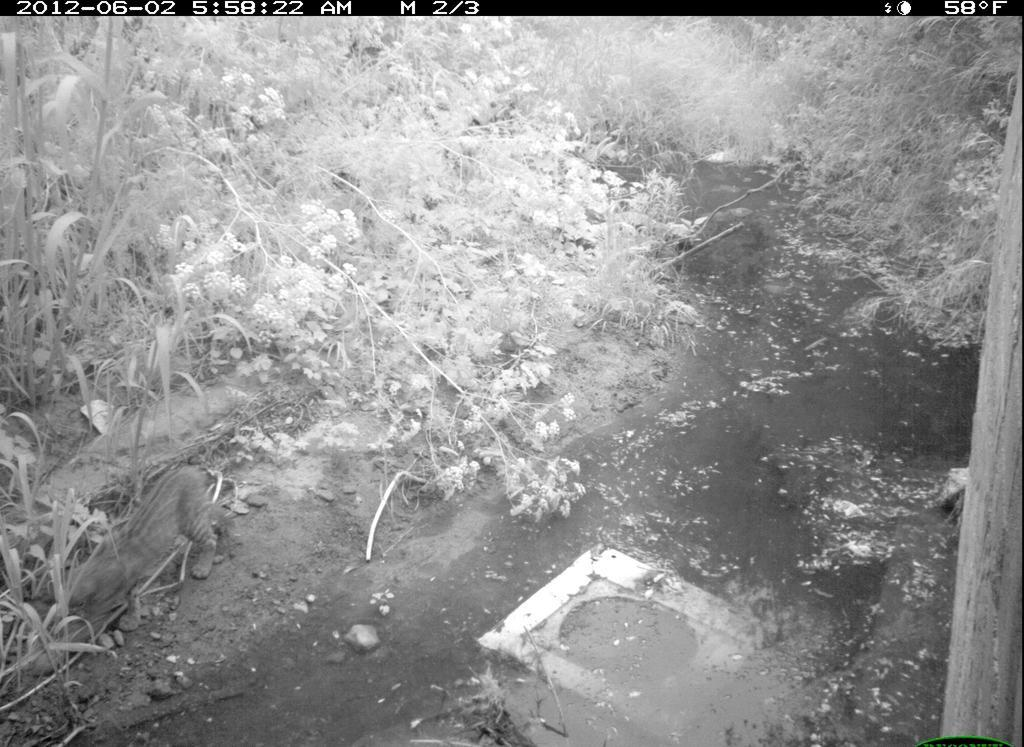bobcat: (54, 459, 230, 651)
